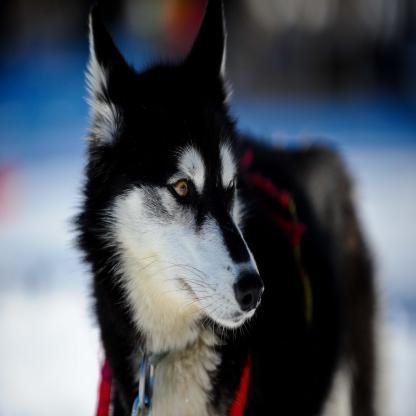dog: (77, 15, 374, 416)
